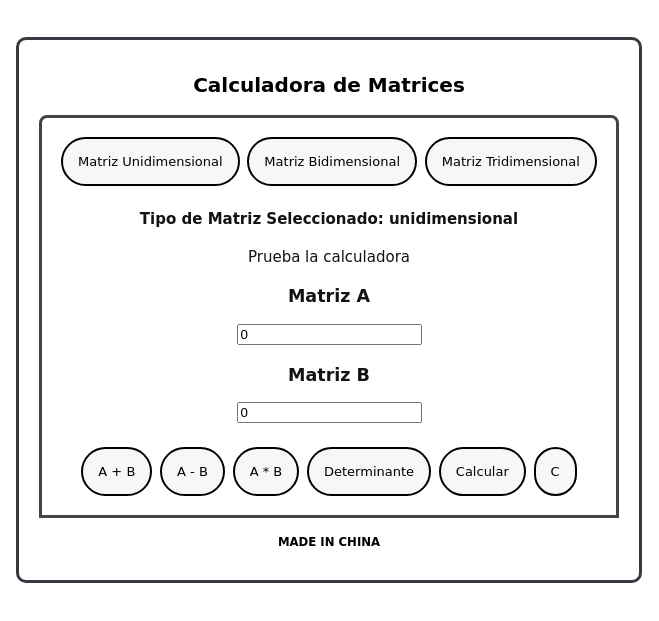
Test case: MatrixCalculator › should render the component and handle dimension change
Expected: the heading "Calculadora de Matrices" is shown, [193,73,465,97]
Expected: the button "Matriz Unidimensional" is shown, [61,137,240,186]
// Simula el click en el botón de matriz bidimensional
Click the button "Matriz Bidimensional". click: (332, 162)
box: [247,137,417,186]
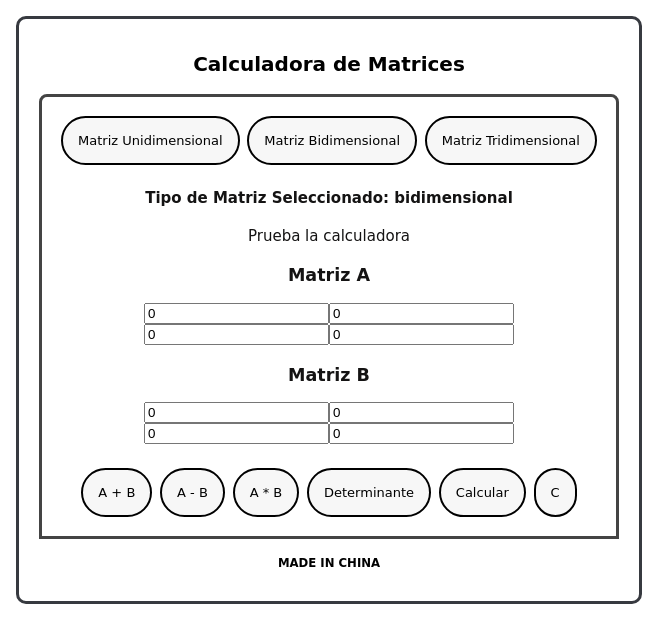
Result: the heading "Tipo de Matriz Seleccionado: bidimensional" is shown at [145,189,513,207]
